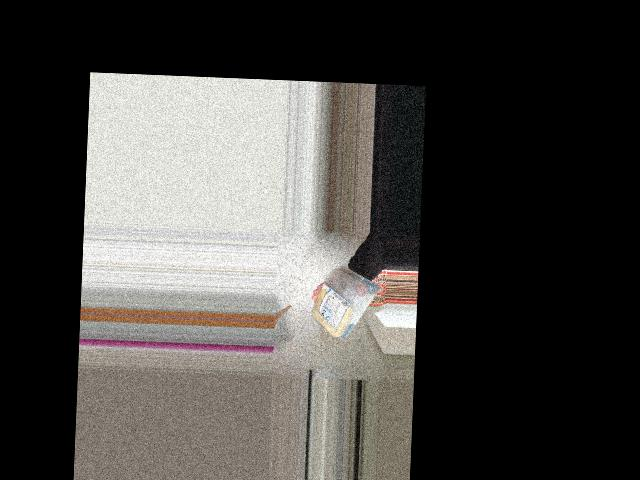cheese: (305, 261, 384, 344)
